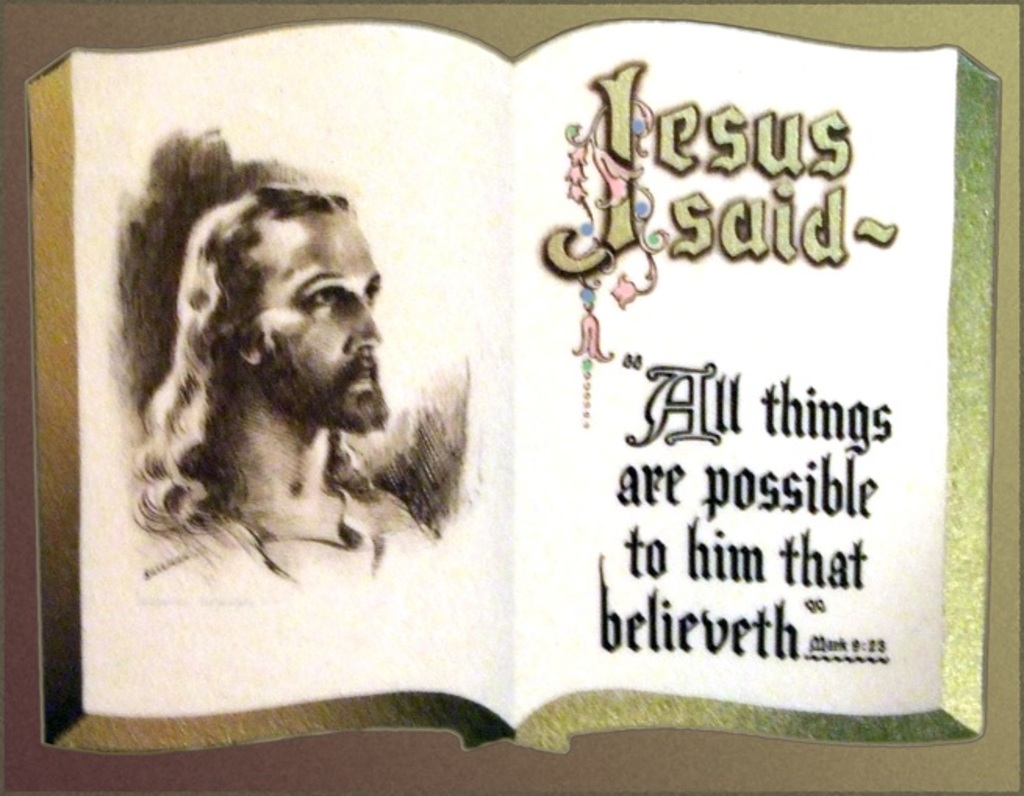Book: (36, 19, 983, 757)
